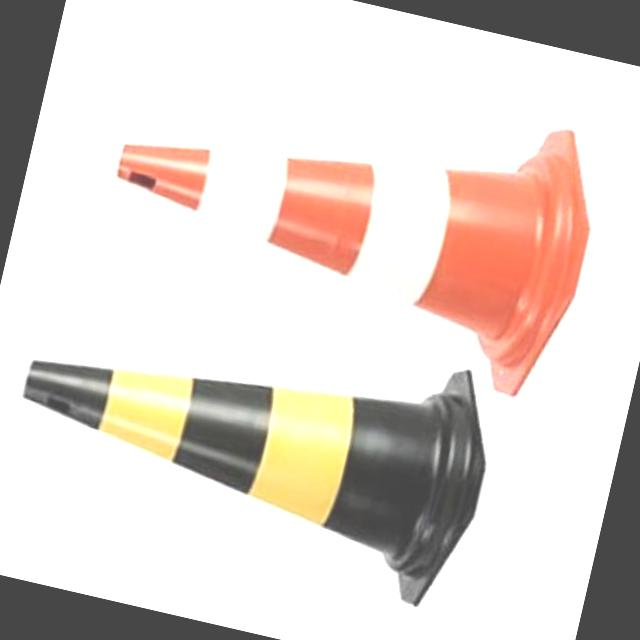cone: (82, 39, 611, 418), (1, 283, 500, 614)
